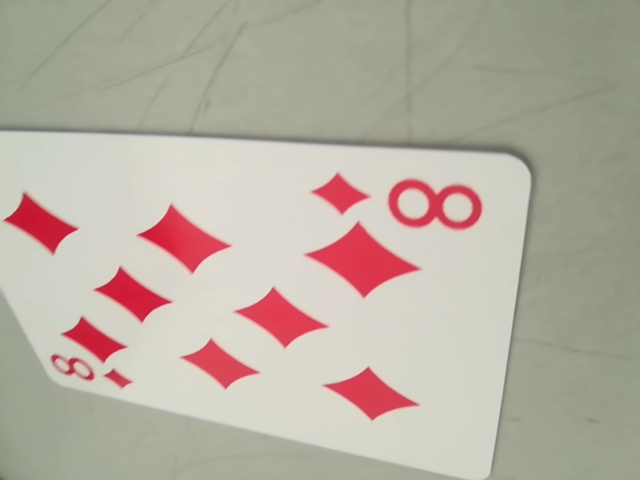fk 8: (315, 167, 488, 233), (46, 349, 133, 390)
